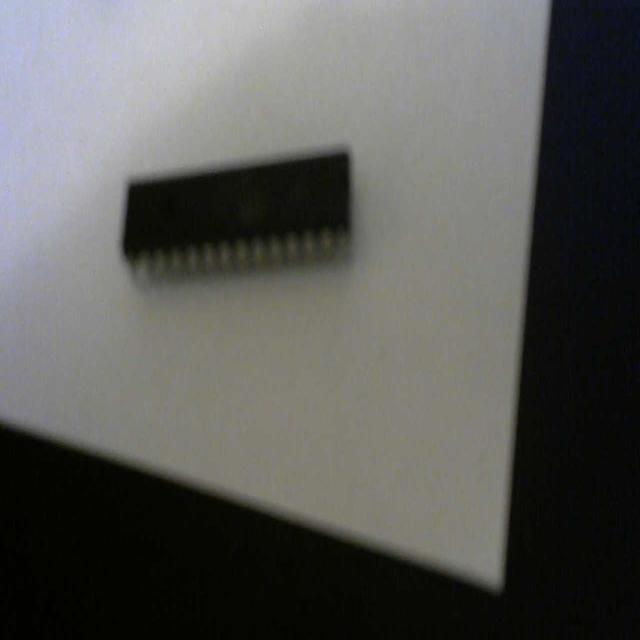atmega: (120, 143, 354, 288)
